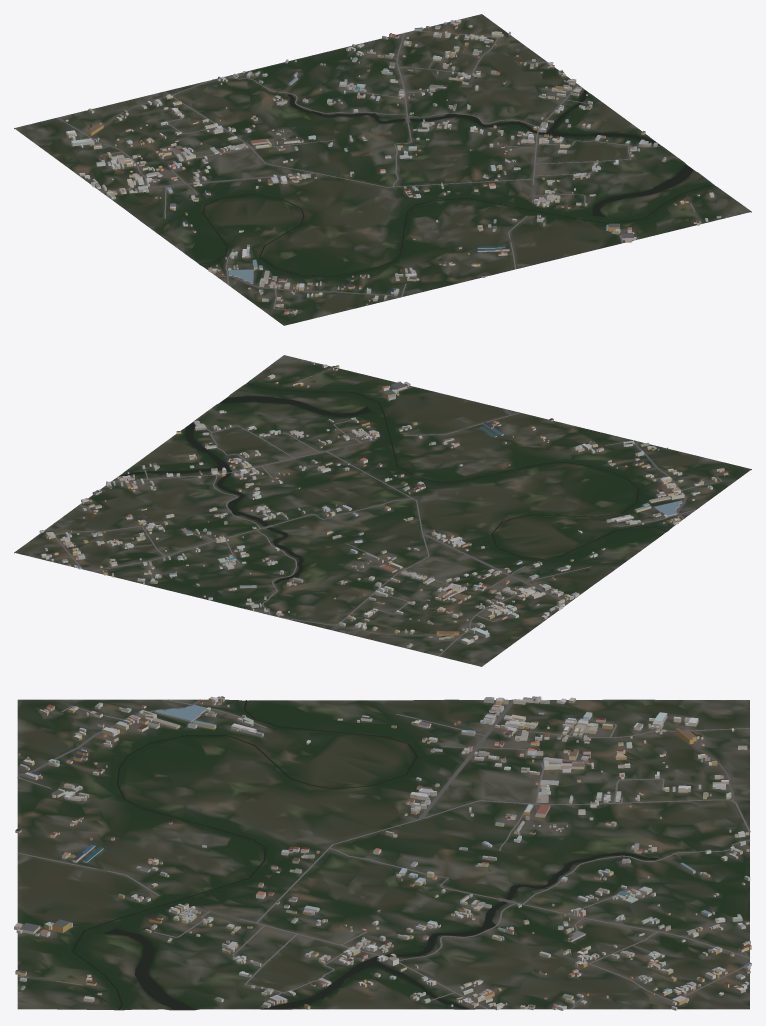
3 renders of one model, top to bottom at view 1: azimuth 30°, elevation 25°; view 2: azimuth 150°, elevation 25°; view 3: azimuth 270°, elevation 25°, orthographic. The views are drawn at different scales.
Visible parts, largest first — view 1: ground, buildings, roads, water; view 2: ground, buildings, roads, water; view 3: ground, buildings, roads, water.
Part boxes in pixels (box(x1,y1,x2,y2)): ground: box(14, 14, 751, 325); buildings: box(65, 20, 721, 315); roads: box(57, 30, 726, 309); water: box(199, 90, 714, 276); ground: box(14, 355, 751, 666); buildings: box(39, 362, 728, 651); roads: box(55, 361, 721, 656); water: box(119, 383, 667, 583); ground: box(17, 699, 749, 1010); buildings: box(14, 696, 751, 1010); roads: box(17, 699, 750, 1009); water: box(72, 700, 657, 1009).
Size of the model in its own units: 1411 by 16.95 by 1411.
